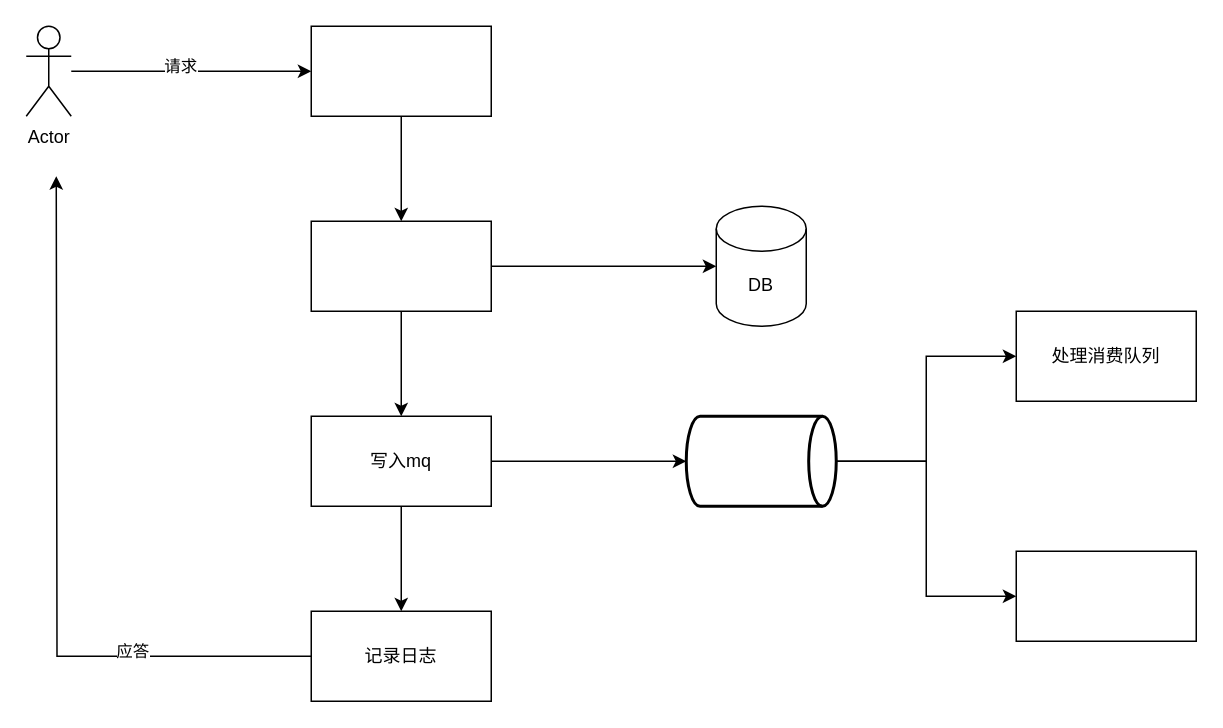
Some shapes in this 1223 by 728 pixel diagram are drawn without their labels. Here are the shapes that lost their labels. From the top down, the centre of each, then its label:
At (400,70): "API".
At (400,265): "上报作业信息写入数据库".
At (760,460): "MQ".
